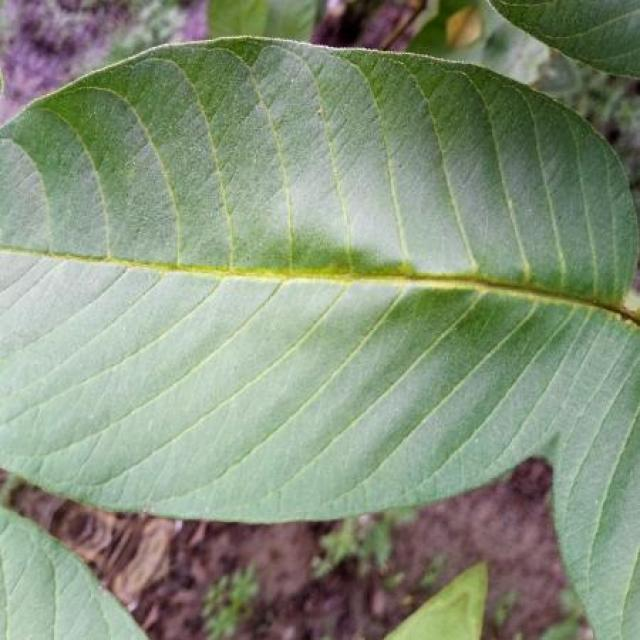Disease Free: (0, 38, 640, 639), (0, 509, 144, 640)
